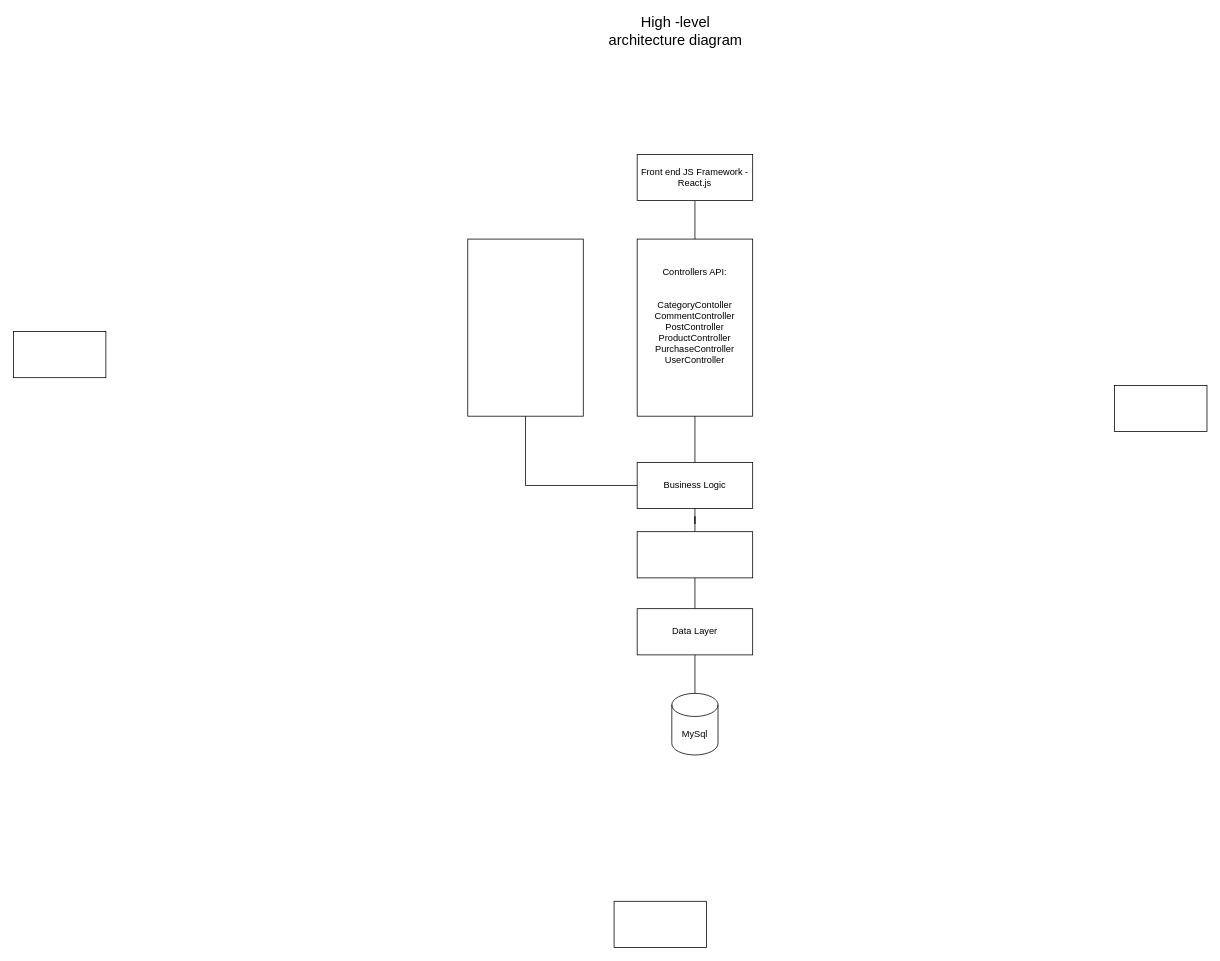
The diagram is 1220 pixels wide and 961 high, and some of its shapes have lost their labels. The centre of each missing label's shape, as x and y in pixels:
"Interface" goes at point (694, 554).
"Model: Category Comment Post Product Purchase PurhcaseStatus User" goes at point (525, 327).
